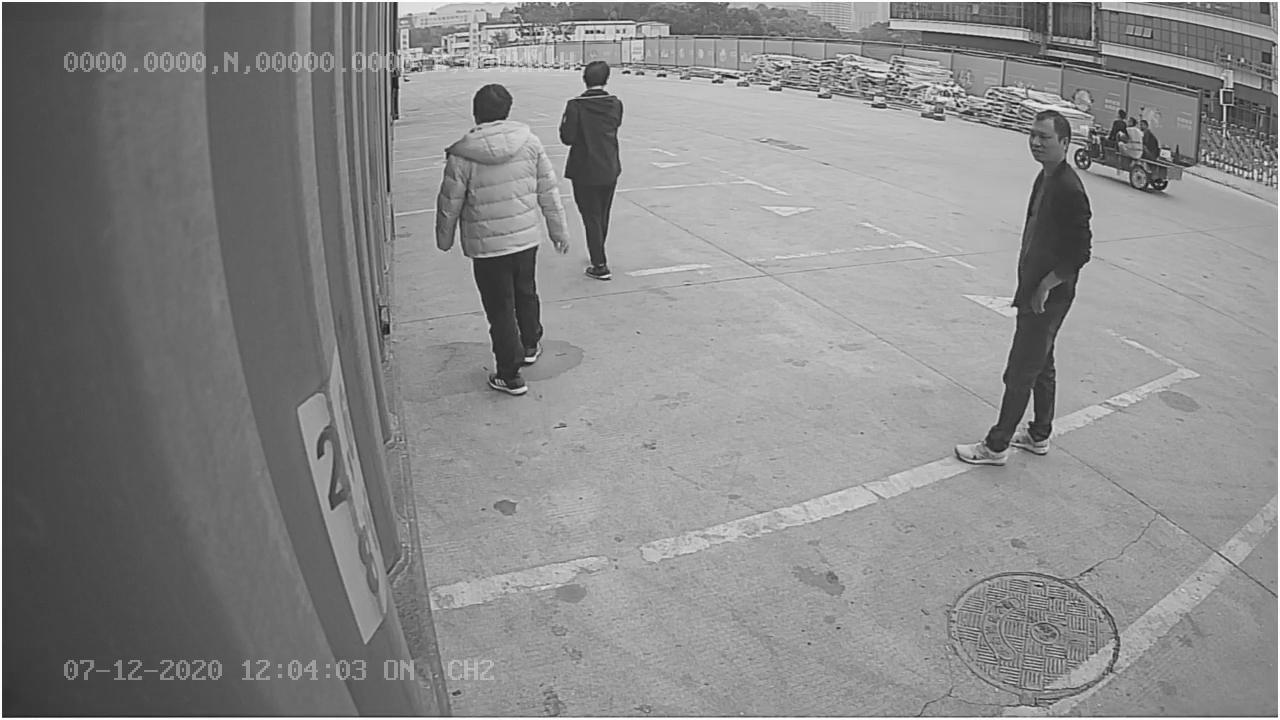person: (952, 102, 1095, 467), (430, 84, 569, 390)
